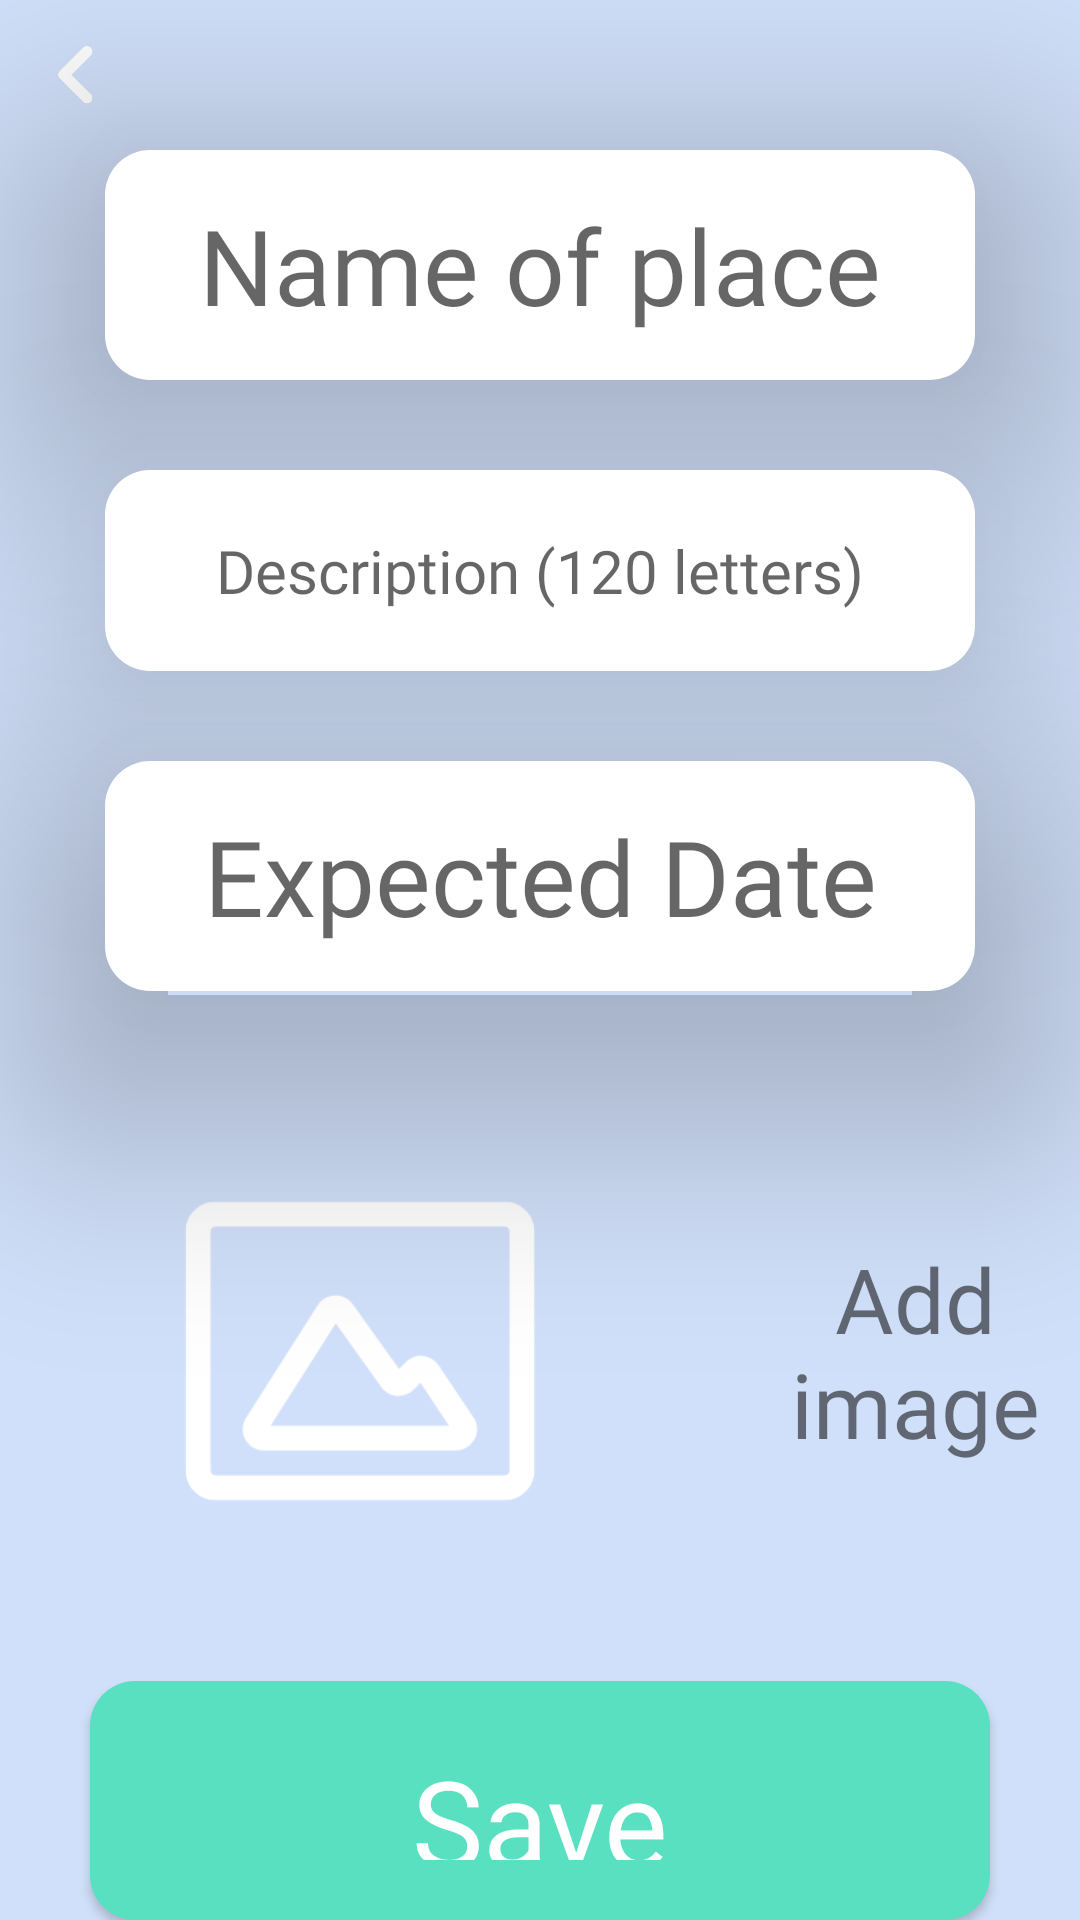

Icon click points for this 1080w x 1920h phone screenshot, format point (x, y):
back: point (75, 74)
